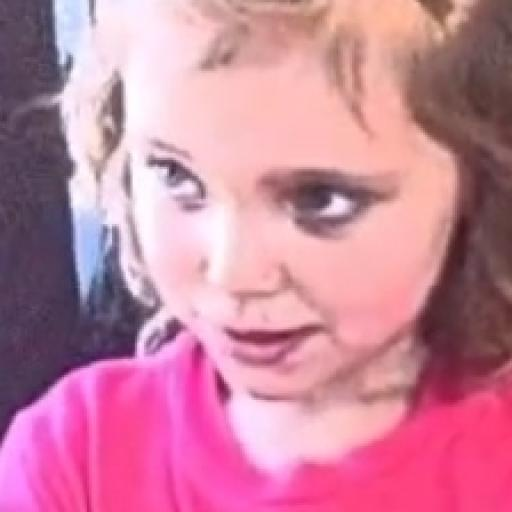Autism: (98, 18, 512, 477)
